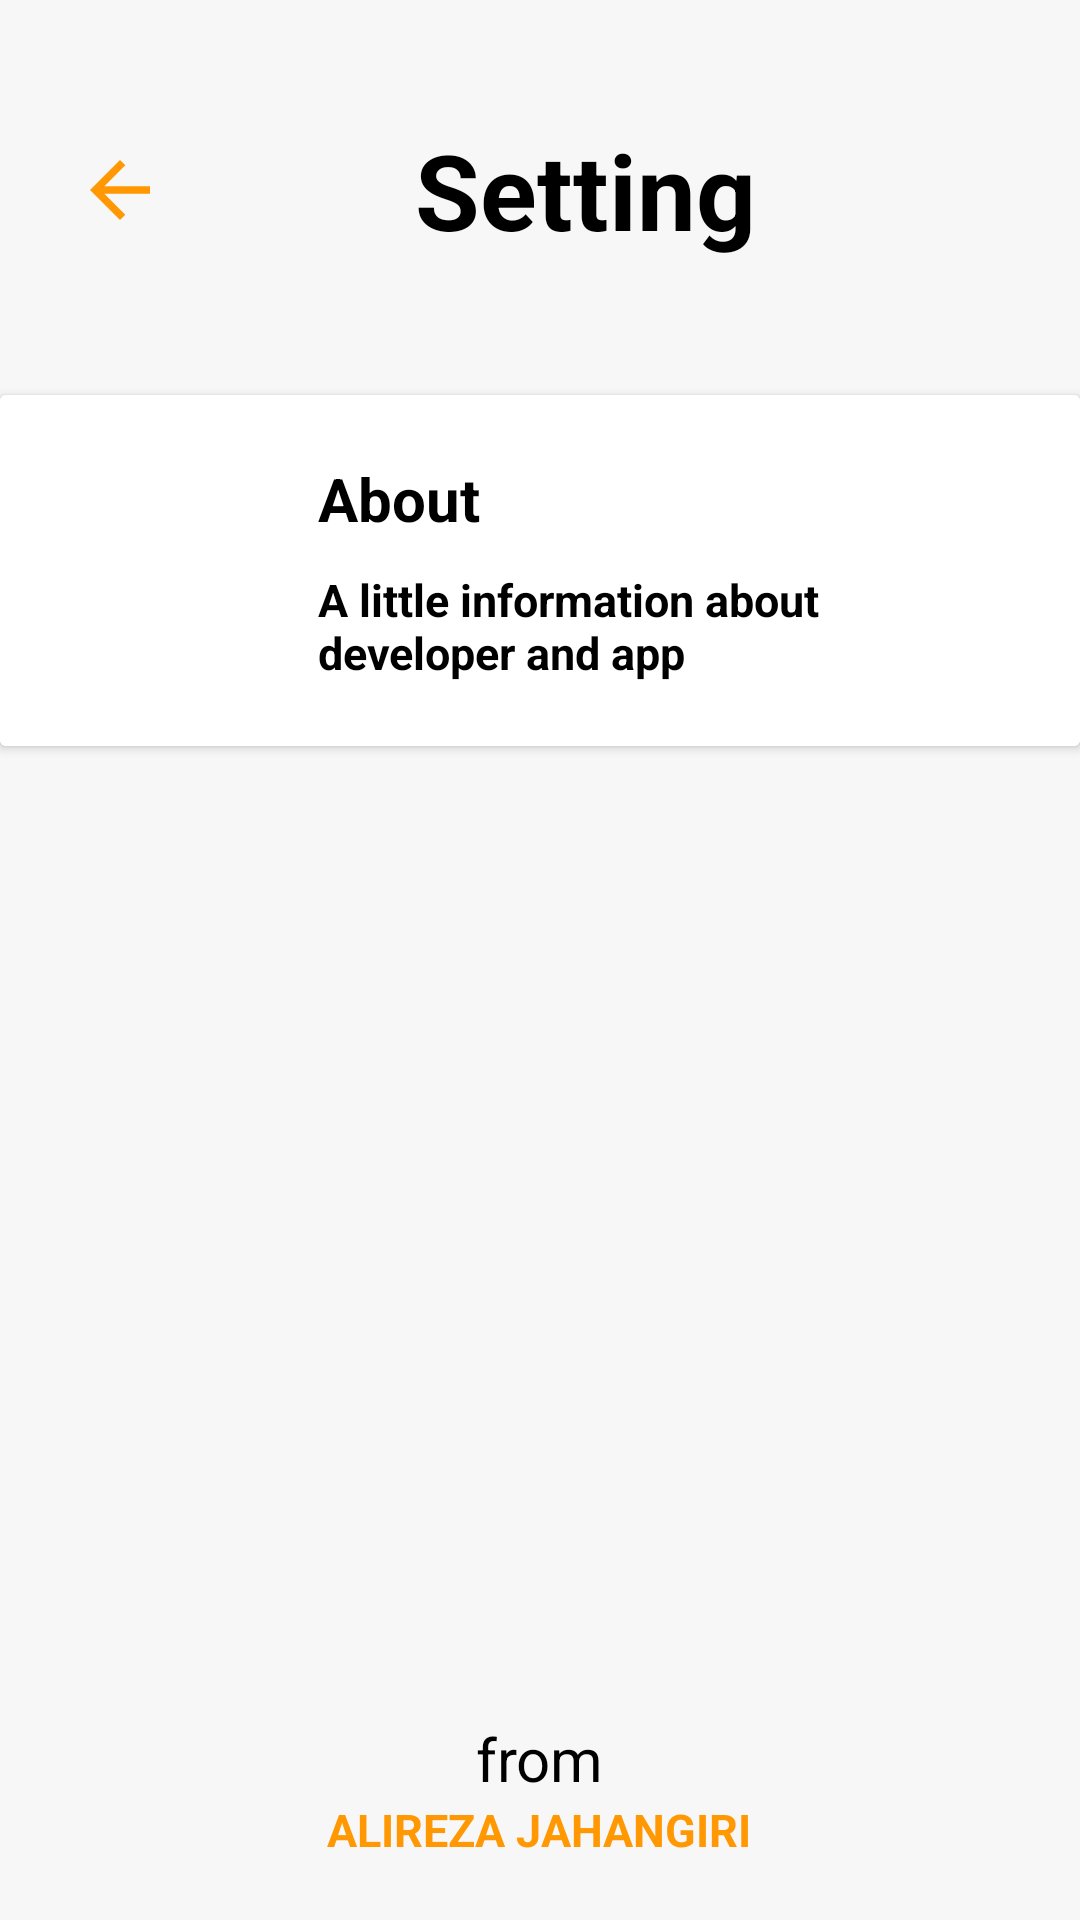

Locate icon controls on the screen. Image size 1080×1920, boxes as [x1,y1,x2,y2].
arrow back drawble: [90,160,150,220]
